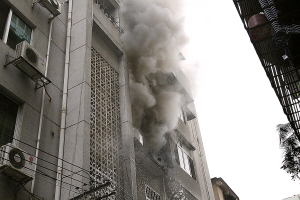smoke: (120, 1, 190, 144)
